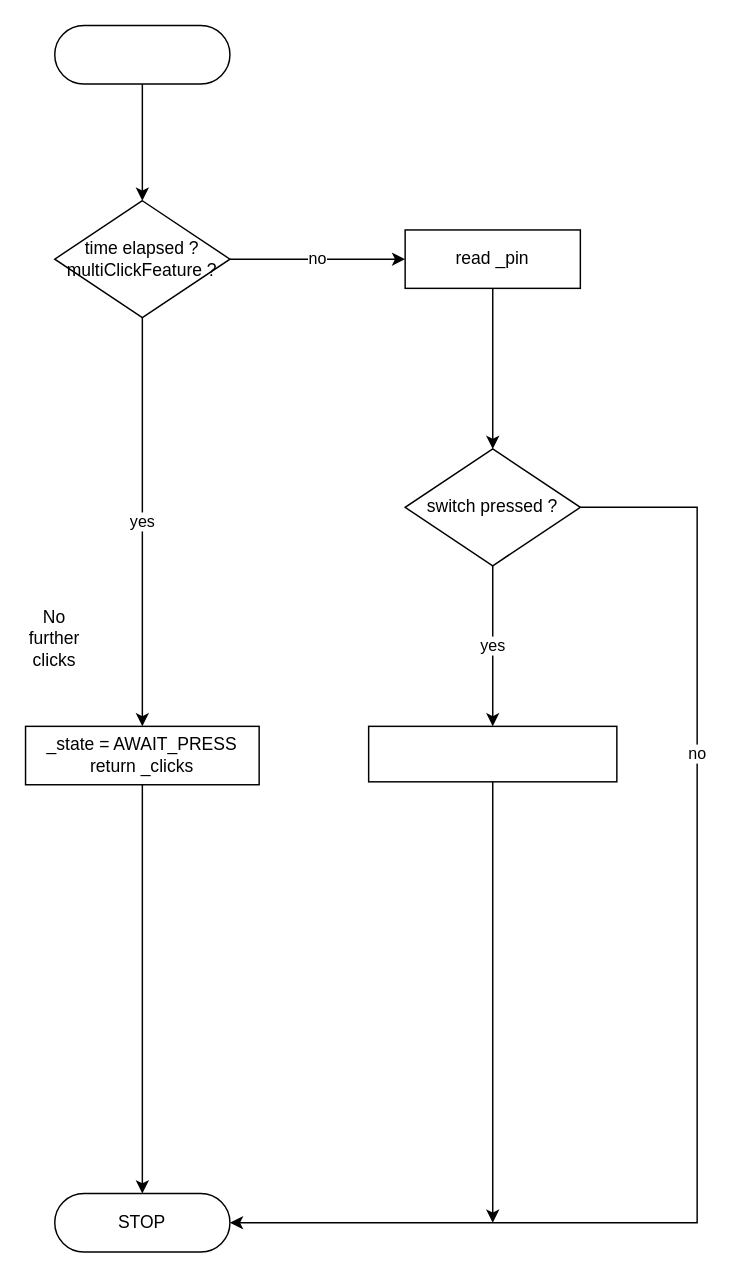
This 734x1278 diagram has some shape labels left out. Each missing label, with the centre of its shape:
"_timePressed = millis() _state = DEBOUNCE_PRESS" belongs at point (492, 753).
"START" belongs at point (141, 54).
